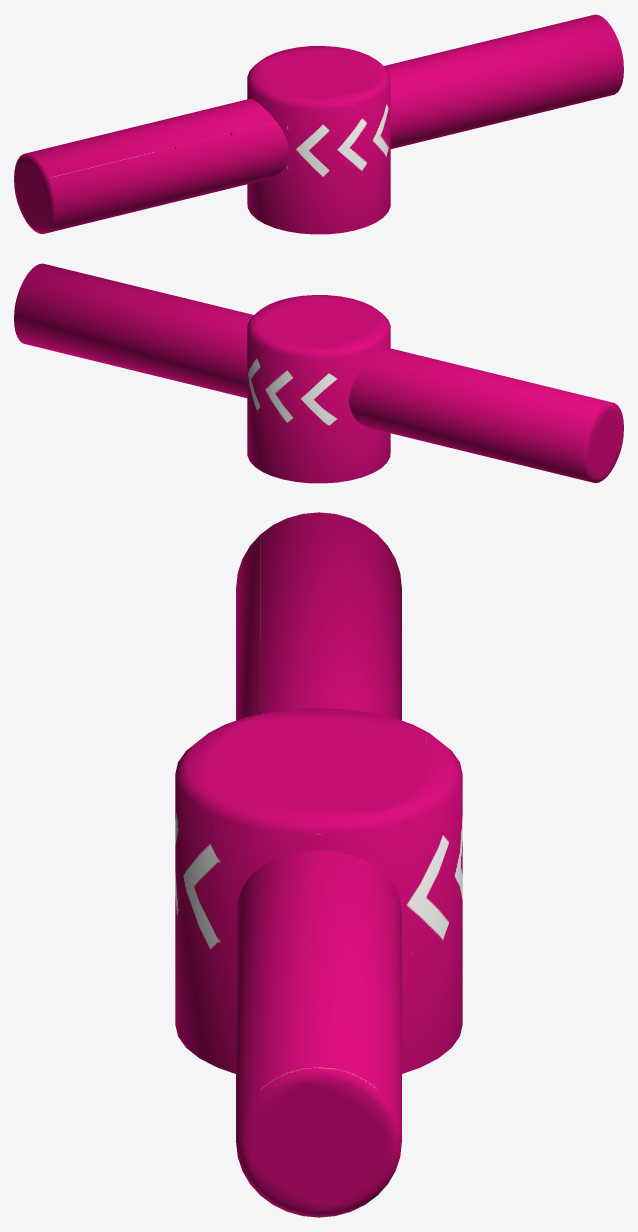
Rendered from obstacle.obj.
3 views of the same model, one above another, from view 1: azimuth 30°, elevation 25°; view 2: azimuth 150°, elevation 25°; view 3: azimuth 270°, elevation 25° (orthographic). The views are drawn at different scales.
Parts seen in each view (by area): view 1: Obstacle; view 2: Obstacle; view 3: Obstacle.
Boxes of the visible parts, box(x1,y1,x2,y2) form: Obstacle: box(14, 14, 623, 234); Obstacle: box(14, 263, 623, 483); Obstacle: box(175, 512, 462, 1217).
Bounding box in the file's own units: 9.21 × 2 × 2.
Materials: 1 (1 with a texture image).
